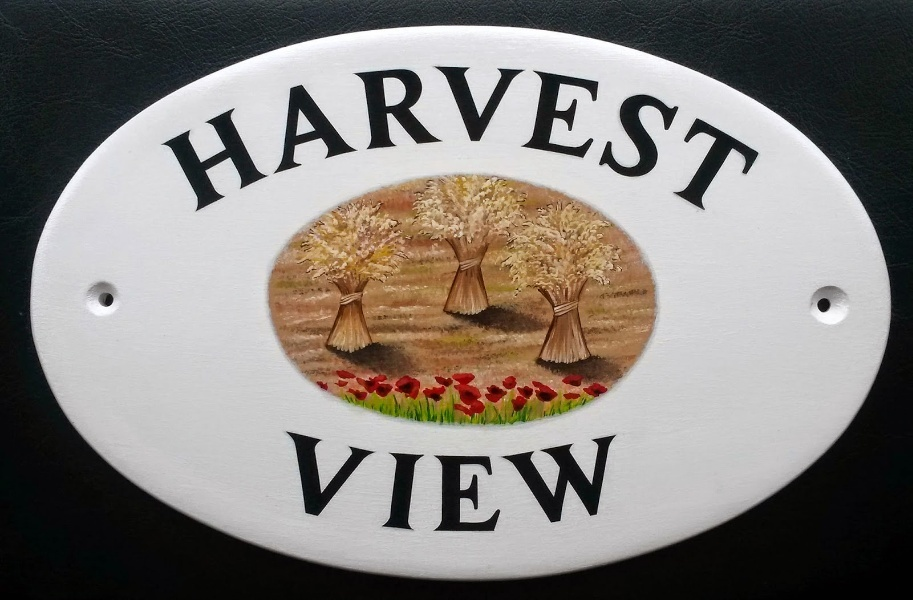text: (177, 66, 192, 214), (193, 66, 208, 214), (209, 66, 224, 214), (225, 66, 240, 214), (241, 66, 256, 214), (257, 66, 272, 214), (273, 66, 288, 214), (289, 66, 304, 214), (305, 66, 320, 214), (321, 66, 336, 214), (337, 66, 352, 214), (353, 66, 368, 214), (369, 66, 384, 214), (385, 66, 400, 214), (401, 66, 416, 214), (417, 66, 432, 214), (433, 66, 448, 214), (449, 66, 464, 214), (465, 66, 480, 214), (481, 66, 496, 214), (497, 66, 512, 214), (513, 66, 528, 214), (529, 66, 544, 214), (545, 66, 560, 214), (561, 66, 576, 214), (577, 66, 592, 214), (593, 66, 608, 214), (609, 66, 624, 214), (625, 66, 640, 214), (641, 66, 656, 214), (657, 66, 672, 214), (673, 66, 688, 214), (689, 66, 704, 214), (705, 66, 720, 214), (721, 66, 736, 214), (737, 66, 752, 214), (162, 66, 176, 214), (289, 431, 304, 534), (305, 431, 320, 534), (321, 431, 336, 534), (337, 431, 352, 534), (353, 431, 368, 534), (369, 431, 384, 534), (385, 431, 400, 534), (401, 431, 416, 534), (417, 431, 432, 534), (433, 431, 448, 534), (449, 431, 464, 534), (465, 431, 480, 534), (481, 431, 496, 534), (497, 431, 512, 534), (513, 431, 528, 534), (529, 431, 544, 534), (545, 431, 560, 534), (561, 431, 576, 534), (577, 431, 592, 534), (593, 431, 608, 534), (753, 66, 763, 214), (609, 431, 617, 534), (284, 431, 288, 534)
